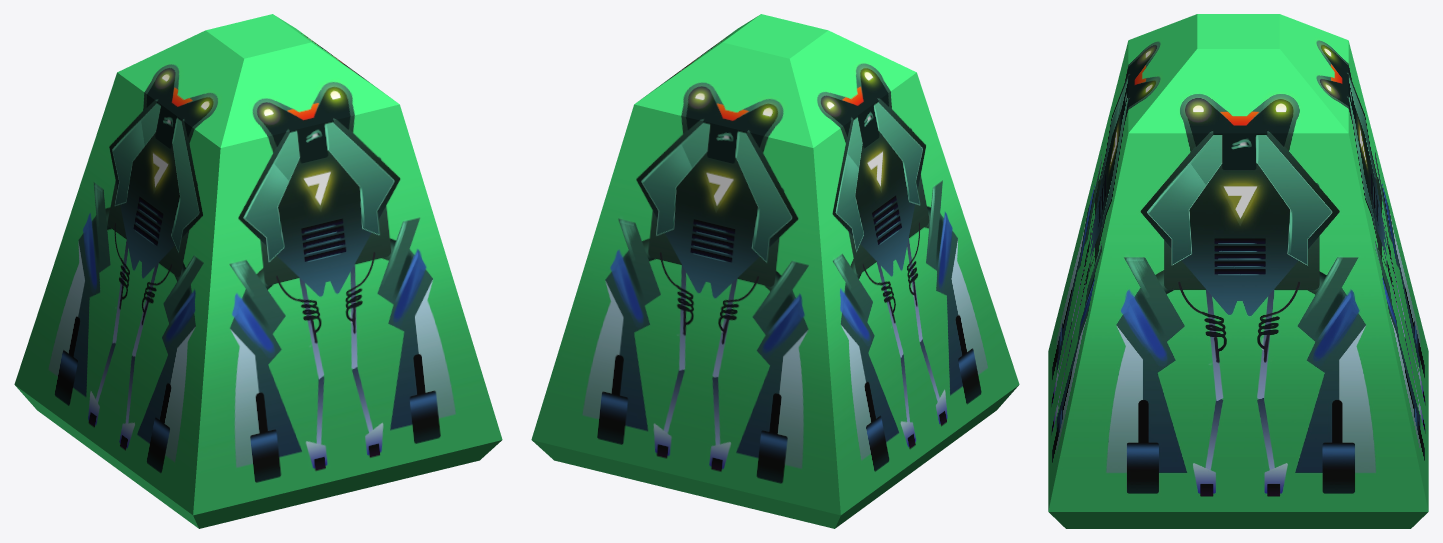
Rendered from villain1.glb.
The picture shows the model from 3 angles, left to right: view 1: azimuth 30°, elevation 25°; view 2: azimuth 150°, elevation 25°; view 3: azimuth 270°, elevation 25°; orthographic projection. The views are drawn at different scales.
Visible parts, largest first — view 1: Villain1; view 2: Villain1; view 3: Villain1.
Part boxes in pixels (<box>): Villain1: <box>14,14,502,528</box>; Villain1: <box>531,14,1019,528</box>; Villain1: <box>1048,14,1428,528</box>.
Bounding box in the file's own units: 2.18 × 2.69 × 2.18.
1 material, 1 textured.
